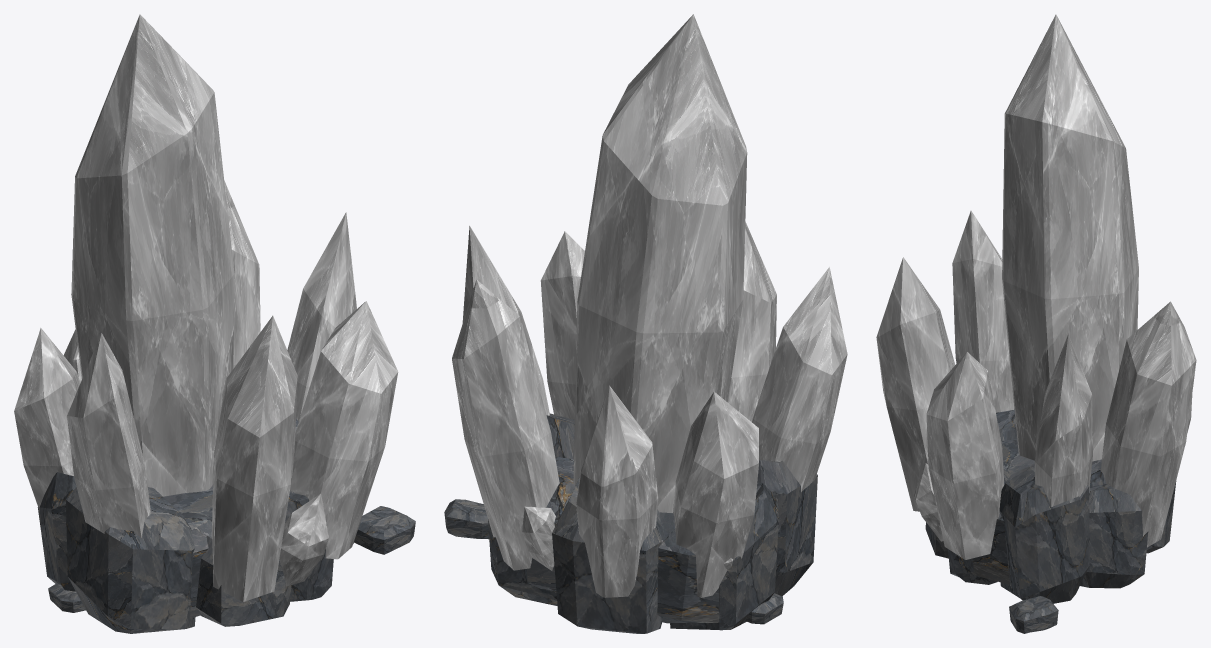
Rendered from Ore_P2.fbx.
3 views of the same model, side by side, from view 1: azimuth 30°, elevation 25°; view 2: azimuth 150°, elevation 25°; view 3: azimuth 270°, elevation 25° (orthographic). The views are drawn at different scales.
Visible parts, largest first — view 1: Ore_P2_LOD0; view 2: Ore_P2_LOD0; view 3: Ore_P2_LOD0.
Boxes of the visible parts, <box> form: Ore_P2_LOD0: <box>14,14,415,633</box>; Ore_P2_LOD0: <box>444,14,847,633</box>; Ore_P2_LOD0: <box>876,14,1196,633</box>.
Size of what is drawn, in the model's own units: 1.36 by 2.09 by 1.17.
2 materials, 2 textured.
